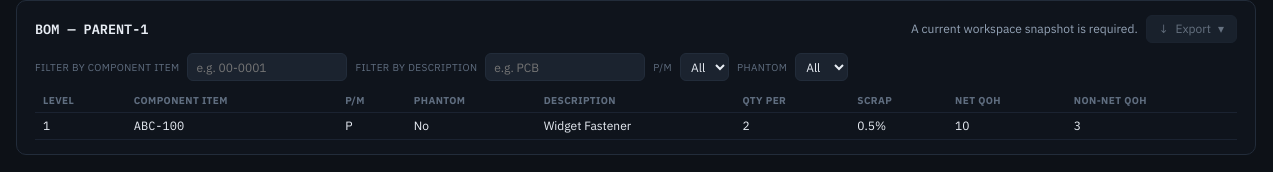
Test case: BomPanel › search › does not match description-only text
Type "fastener" into the field labelled "Filter by Component Item" at (267, 67), box [187,53,347,81]
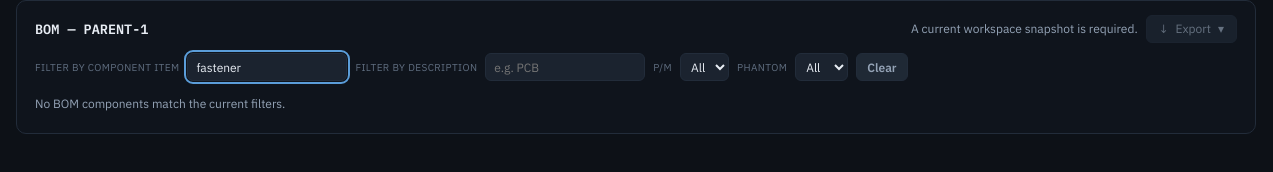
Expected: the text "No BOM components match the current filters." is shown, [35,96,285,111]
Expected: the table is gone
